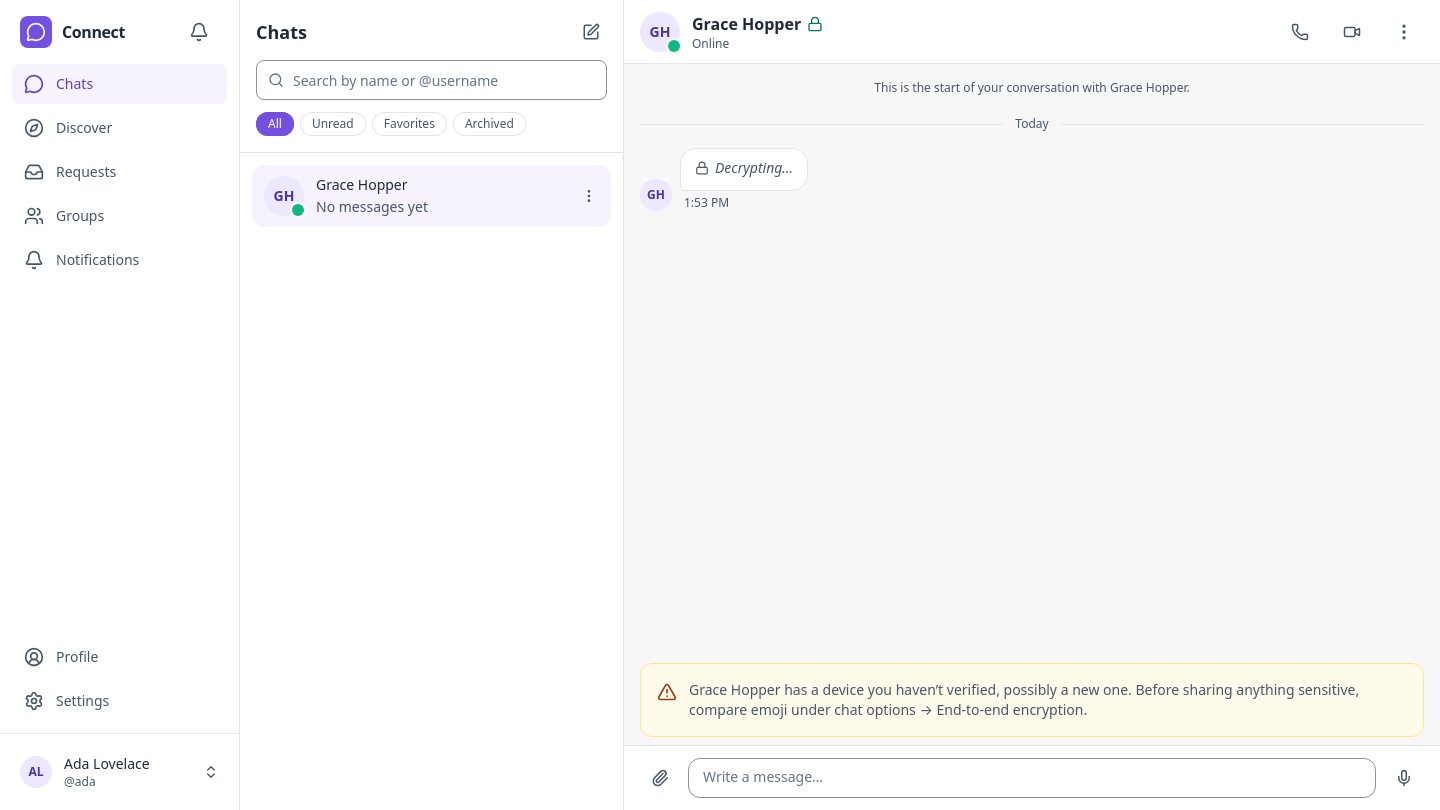
Scenario: an end-to-end encrypted chat › never sends anything when encryption fails
The width and height of the screenshot is (1440, 810).
Check: the element showing "Today GH Decrypting… 1:53 PM" is shown, box [640,115,1049,211]
Type "hello" into the text box labelled "message". click: (1032, 778)
box: [688,758,1376,798]
Then press Enter
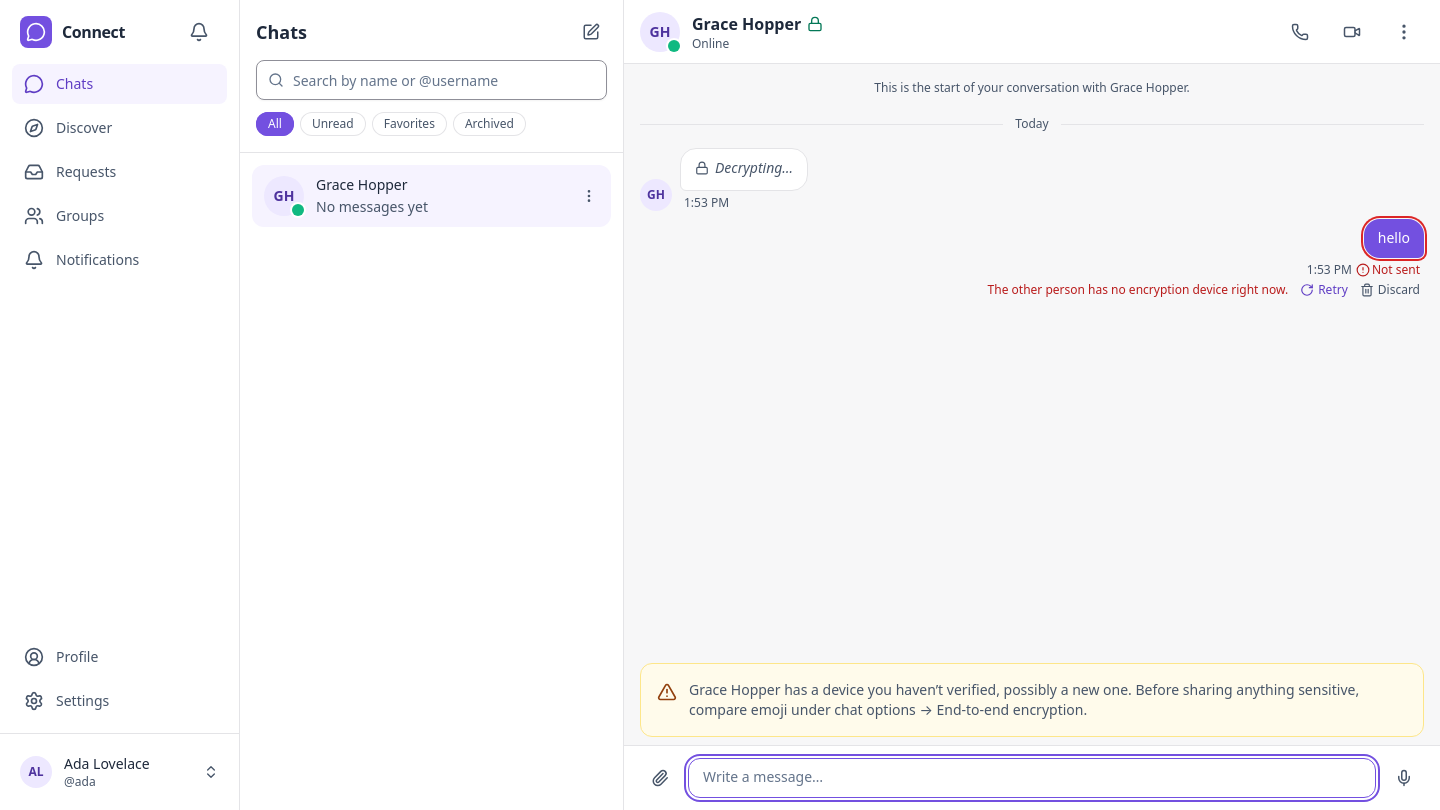
Check: the text "The other person has no encryption device right now." is shown, box [988,282,1288,298]
